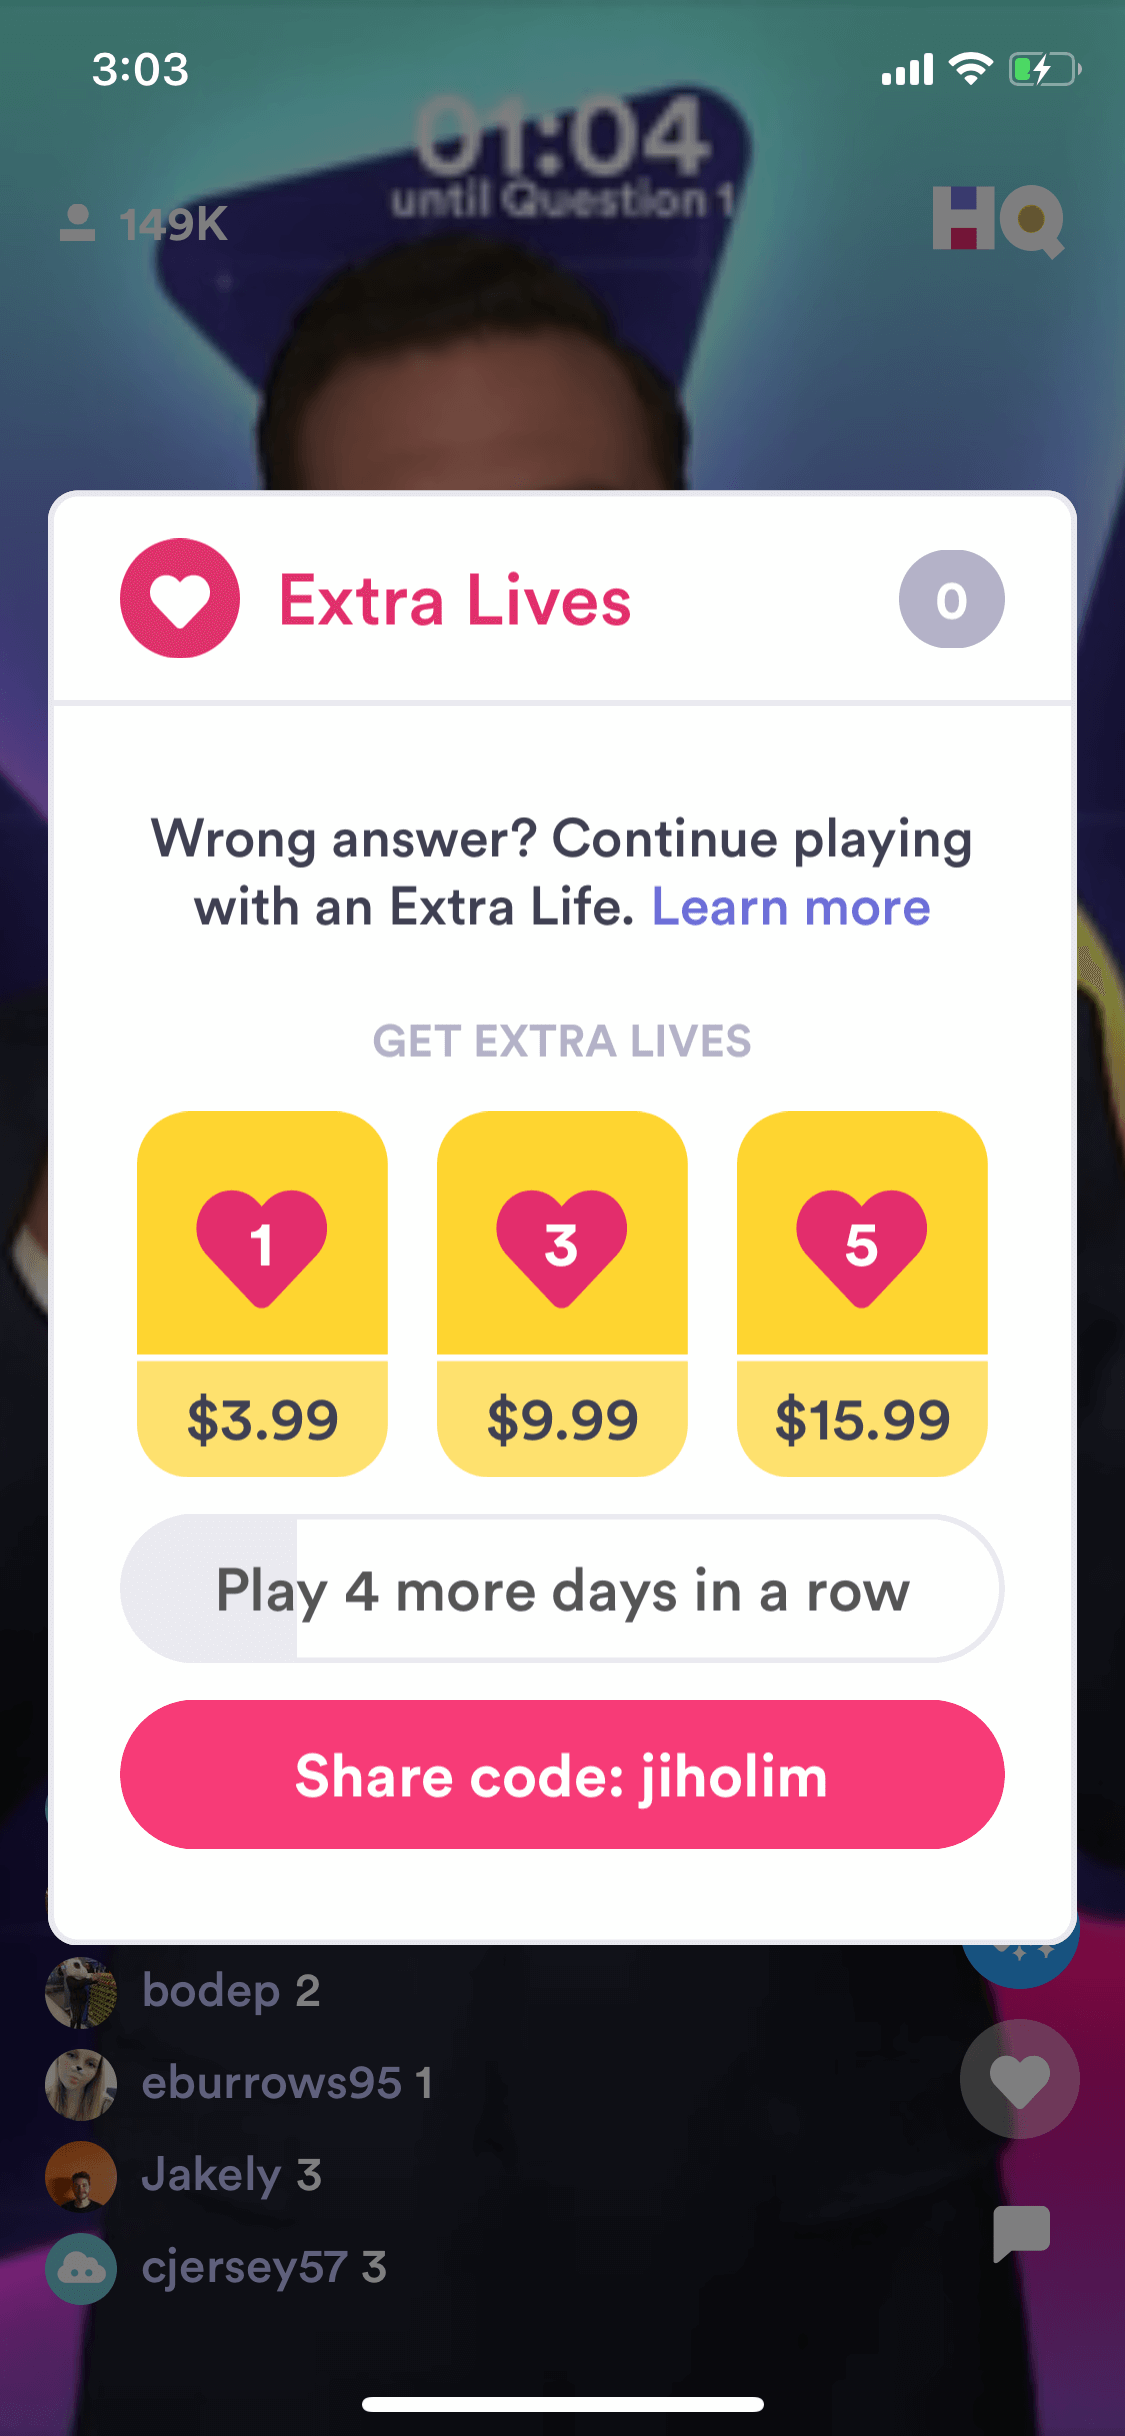Buttons: (106, 1687, 1008, 1874)
FAB (Floating Action Button): (960, 1999, 1086, 2142), (962, 2163, 1085, 2279)
